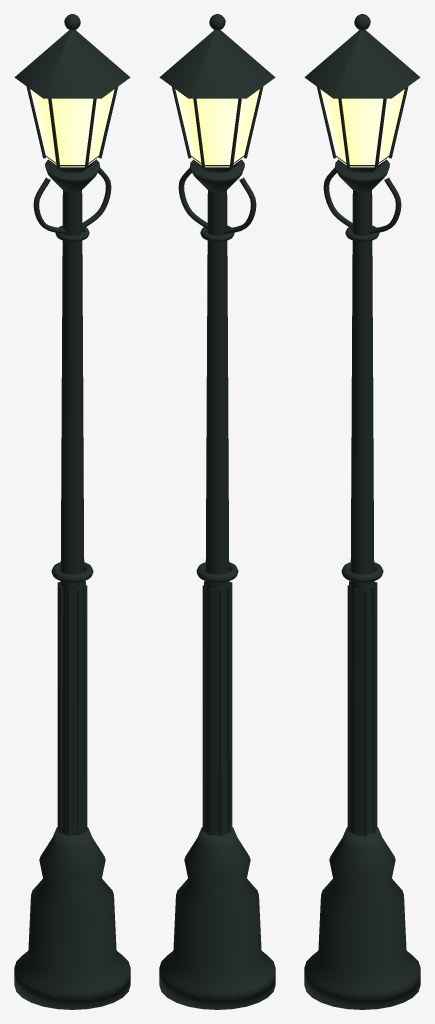
The model's file is lamp.glb.
3 views of the same model, side by side, from view 1: azimuth 30°, elevation 25°; view 2: azimuth 150°, elevation 25°; view 3: azimuth 330°, elevation 25° (orthographic).
Visible parts, largest first — view 1: StreetLamp_LampIron, StreetLamp_LampGlass; view 2: StreetLamp_LampIron, StreetLamp_LampGlass; view 3: StreetLamp_LampIron, StreetLamp_LampGlass.
Boxes of the visible parts, x1,y1,x2,y2 form: StreetLamp_LampIron: [14, 14, 130, 1009]; StreetLamp_LampGlass: [30, 89, 114, 167]; StreetLamp_LampIron: [159, 14, 275, 1009]; StreetLamp_LampGlass: [175, 89, 259, 167]; StreetLamp_LampIron: [304, 14, 420, 1009]; StreetLamp_LampGlass: [320, 89, 404, 167].
Bounding box in the file's own units: 0.42 × 3.87 × 0.42.
